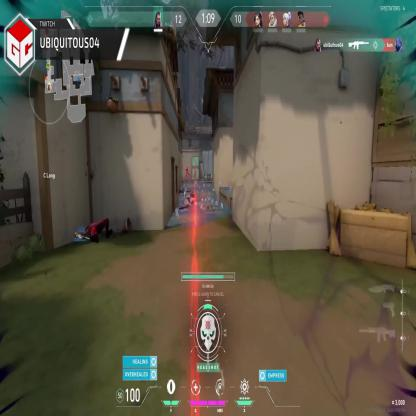enemy: (185, 165, 190, 180), (194, 168, 196, 179)
enemy_head: (186, 165, 188, 168), (194, 168, 196, 170)
